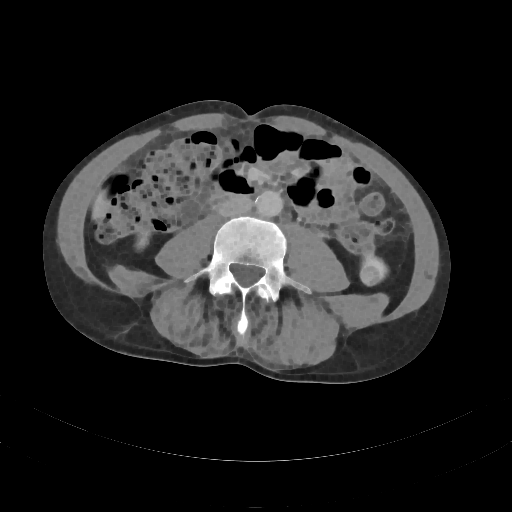Lesion: (362, 266, 383, 284)
